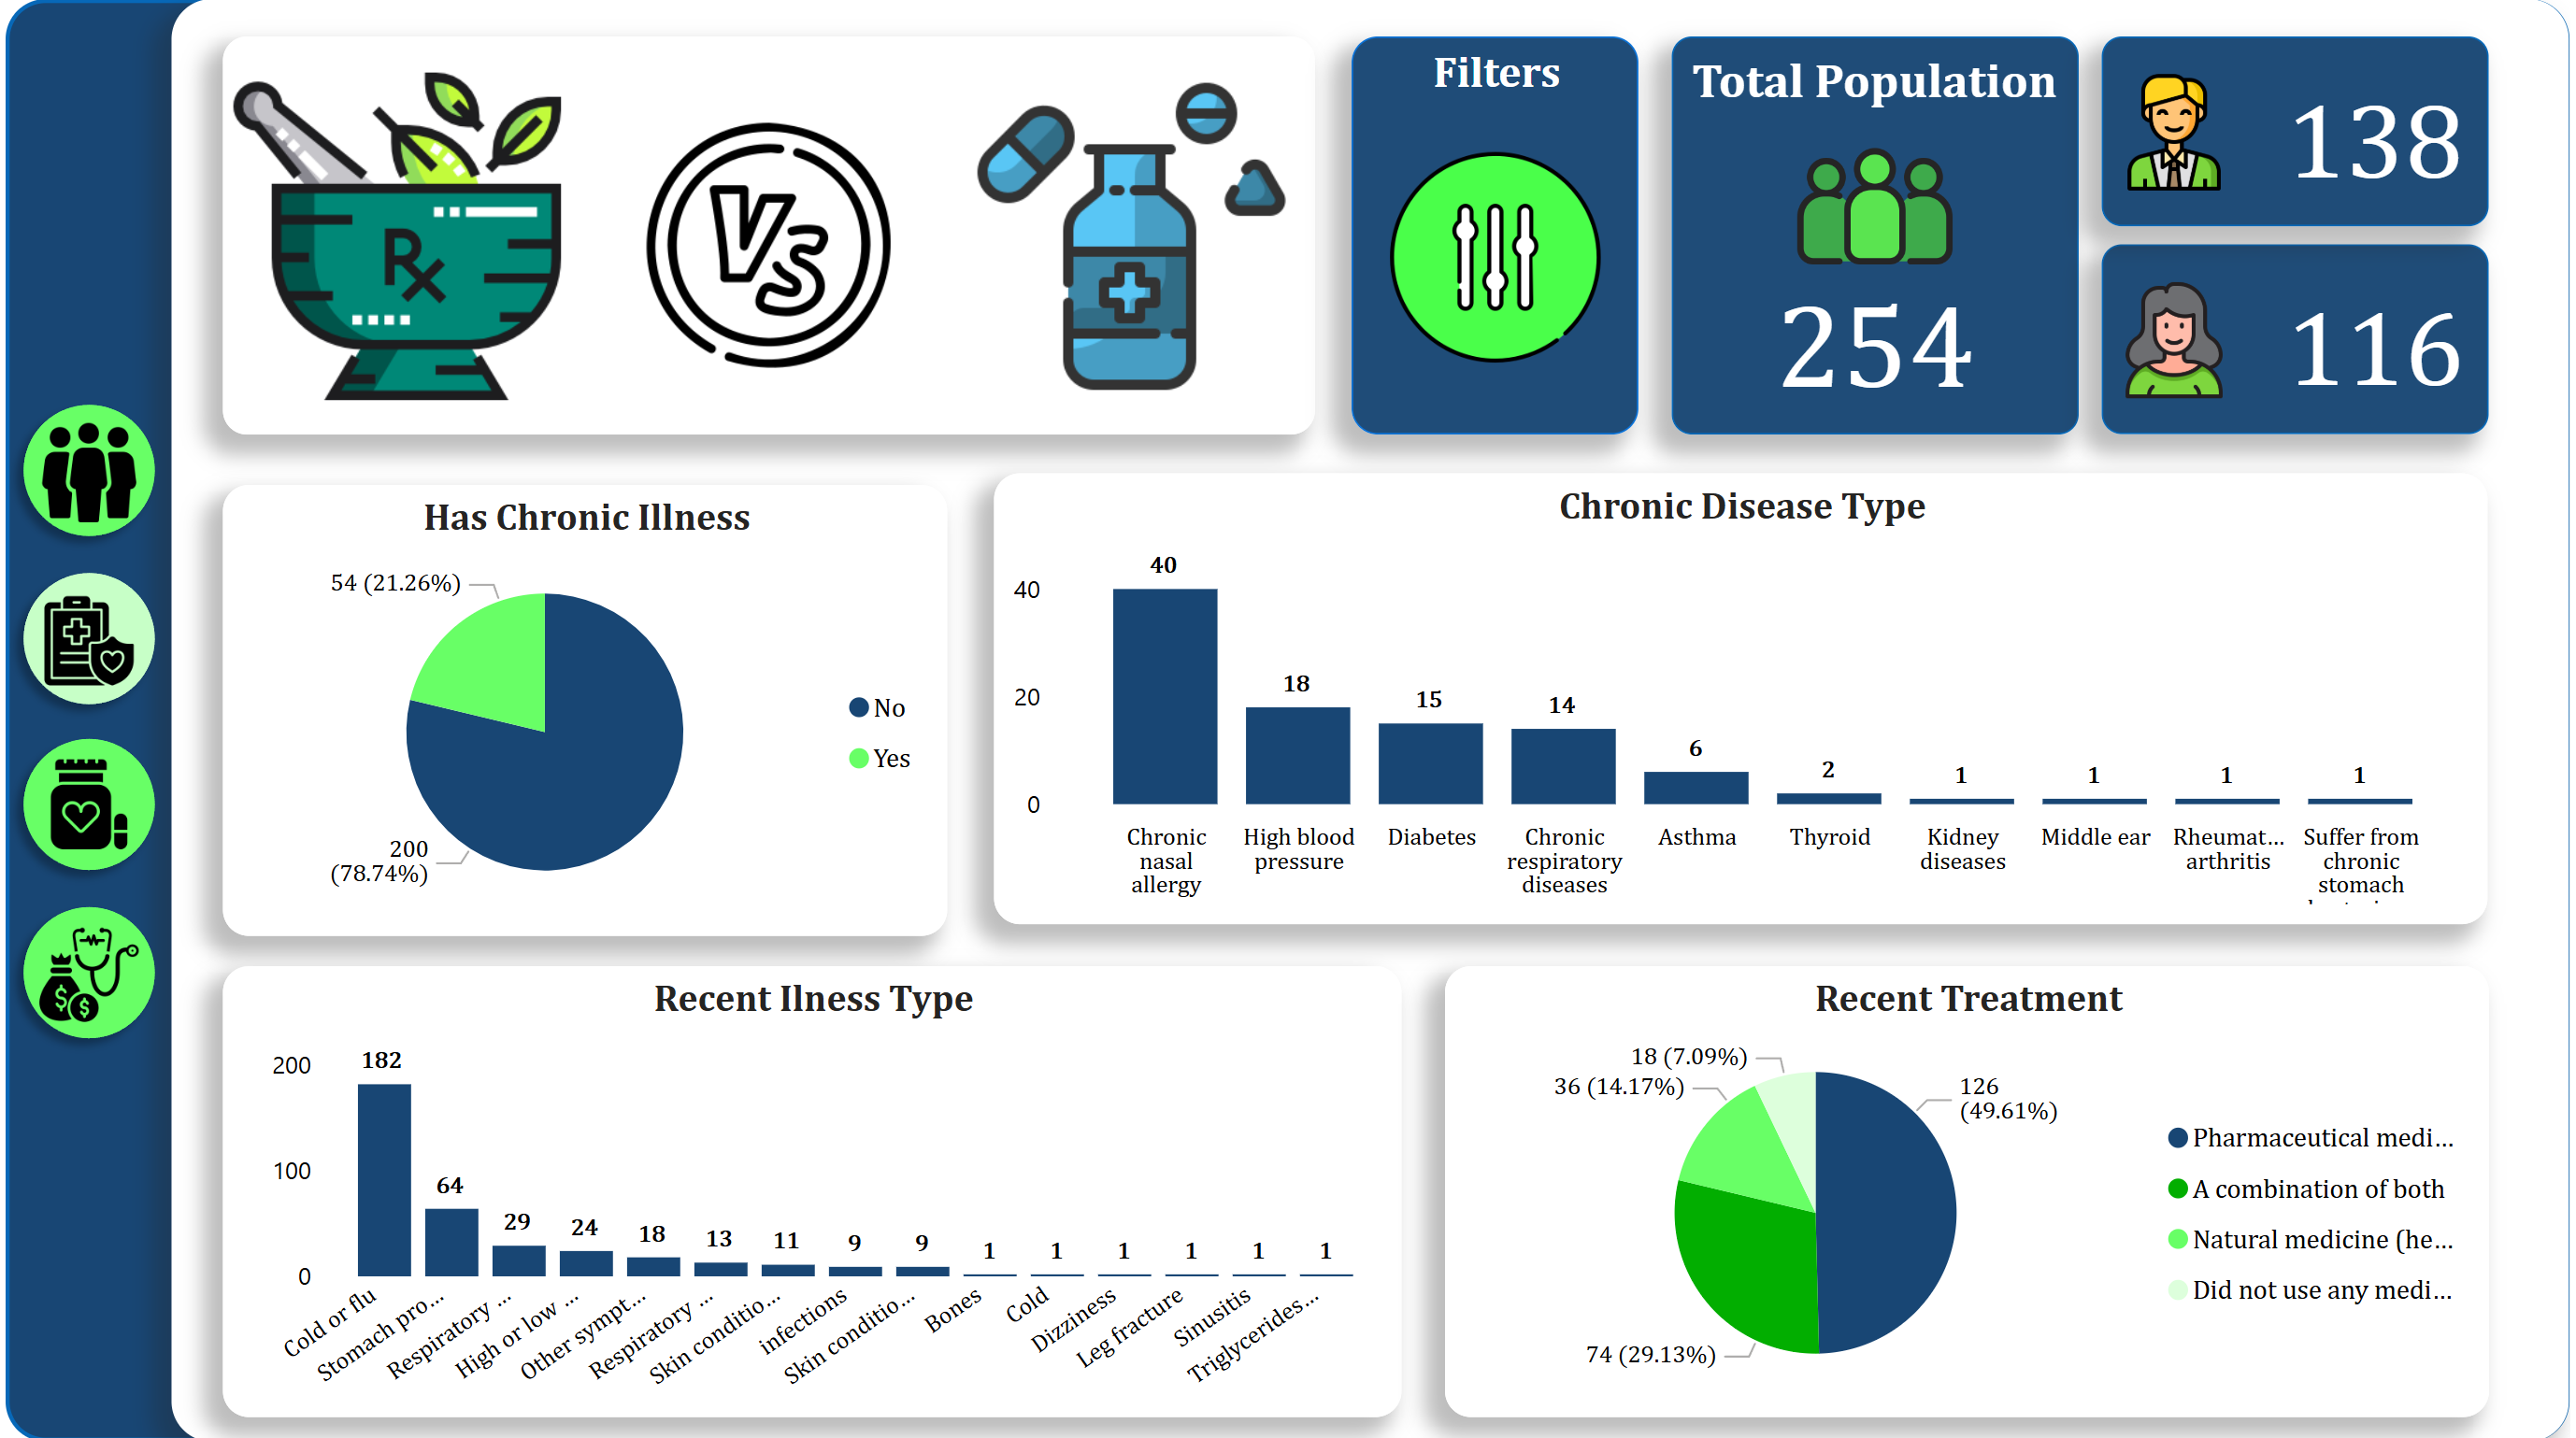

The dashboard page shown, as its layout file describes it:
{"tool":"powerbi","page":{"name":"Health and Medication Usage","canvas":[1280,720],"ordinal":1},"visuals":[{"type":"shape","box":[0,0,1280,720.3],"z":0},{"type":"shape","box":[108.5,18.1,545.4,199],"z":0,"group":"g5"},{"type":"shape","title":"Filters","box":[672.3,18.1,143.3,199],"z":0,"group":"g10"},{"type":"group","id":"g1","title":"Total population","box":[832,18.1,203.1,199],"z":0,"group":"g8"},{"type":"shape","box":[832,18.1,203.1,199],"z":0,"group":"g1"},{"type":"shape","box":[1046.3,18.1,193.4,94.6],"z":0,"group":"g6"},{"type":"shape","box":[1046.3,122.4,193.4,94.6],"z":0,"group":"g3"},{"type":"group","id":"g2","title":"Population_Overview","box":[0,193.4,83.5,83.5],"z":0,"group":"g11"},{"type":"shape","box":[0,193.4,83.5,83.5],"z":0,"group":"g2"},{"type":"shape","box":[0,276.9,83.5,83.5],"z":0,"group":"g4"},{"type":"shape","box":[0,360.4,83.5,83.5],"z":0,"group":"g7"},{"type":"shape","box":[0,443.8,83.5,83.5],"z":0,"group":"g9"},{"type":"shape","box":[83.3,0,1196.7,720.3],"z":1000},{"type":"card","fields":{"Values":["Dax_Measures.Total_Male"]},"box":[1125.6,29.2,114.1,72.3],"z":1000,"group":"g6"},{"type":"image","box":[467.5,30.6,186.4,173.9],"z":1000,"group":"g5"},{"type":"image","box":[671.7,70.4,143.3,115.5],"z":1000,"group":"g10"},{"type":"group","id":"g3","title":"Total_females","box":[1046.3,122.4,193.4,94.6],"z":1000,"group":"g8"},{"type":"card","fields":{"Values":["Dax_Measures.Total_Population"]},"box":[859.9,128.6,147.3,76.7],"z":1000,"group":"g1"},{"type":"image","box":[1046.3,133.5,72.3,72.3],"z":1000,"group":"g3"},{"type":"image","box":[11.1,205.9,59.8,59.8],"z":1000,"group":"g2"},{"type":"group","id":"g4","title":"Health","box":[0,276.9,83.5,83.5],"z":1000,"group":"g11"},{"type":"image","box":[11.1,289.4,59.8,59.8],"z":1000,"group":"g4"},{"type":"image","box":[11.1,371.5,59.8,59.8],"z":1000,"group":"g7"},{"type":"image","box":[11.1,456.3,59.8,59.8],"z":1000,"group":"g9"},{"type":"group","id":"g5","title":"natural vs. pharm","box":[108.5,18.1,545.4,199],"z":2000},{"type":"group","id":"g6","title":"Total_males","box":[1046.3,18.1,193.4,94.6],"z":2000,"group":"g8"},{"type":"image","box":[1046.3,29.2,72.3,72.3],"z":2000,"group":"g6"},{"type":"image","box":[108.5,30.6,173.9,173.9],"z":2000,"group":"g5"},{"type":"image","box":[878.5,58.7,109.9,87.7],"z":2000,"group":"g1"},{"type":"card","fields":{"Values":["Dax_Measures.Total_Females"]},"box":[1125.6,133.5,114.1,72.3],"z":2000,"group":"g3"},{"type":"group","id":"g7","title":"Medication_Usage","box":[0,360.4,83.5,83.5],"z":2000,"group":"g11"},{"type":"group","id":"g8","title":"Population","box":[832,18.1,407.7,199],"z":3000},{"type":"image","box":[296.3,47.3,169.7,150.3],"z":3000,"group":"g5"},{"type":"group","id":"g9","title":"Advice_Cost","box":[0,443.8,83.5,83.5],"z":3000,"group":"g11"},{"type":"group","id":"g10","title":"Filter","box":[671.7,18.1,143.3,199],"z":4000},{"type":"group","id":"g11","title":"Buttons","box":[0,193.4,83.5,333.9],"z":5000},{"type":"clusteredColumnChart","title":"Chronic Disease Type","fields":{"Category":["Chronic_Disease_Type.Chronic_Disease_Type"],"Y":["CountNonNull(Chronic_Disease_Type.Chronic_Disease_Type)"]},"box":[493.9,236.5,745.7,225.4],"z":7000},{"type":"pieChart","title":"Has Chronic Illness","fields":{"Category":["English_csv.Chronic_Illness"],"Y":["CountNonNull(English_csv.Chronic_Illness)"]},"box":[108.5,242.1,361.7,225.4],"z":8000},{"type":"clusteredColumnChart","title":"Recent Ilness Type","fields":{"Category":["Recent_Illness_Type.Recent_Illness_Type"],"Y":["CountNonNull(Recent_Illness_Type.Recent_Illness_Type)"]},"box":[108.2,482.7,588.4,225.2],"z":9000},{"type":"pieChart","title":"Recent Treatment","fields":{"Category":["English_csv.Recent_Treatment"],"Y":["CountNonNull(English_csv.Recent_Treatment)"]},"box":[719,482.7,521.2,225.2],"z":10000}]}

Visuals, with their boxes in screenshot pixels (x1, y1, x2, y2), scaled from the page's 1280x720 canvas onto the 2576x1438 screenshot:
shape: 0:0:2575:1437
shape: 219:36:1316:434
"Filters" shape: 1353:36:1641:434
"Total population" group: 1674:36:2083:434
shape: 1674:36:2083:434
shape: 2106:36:2495:225
shape: 2106:245:2495:434
"Population_Overview" group: 0:386:168:553
shape: 0:386:168:553
shape: 0:553:168:719
shape: 0:719:168:887
shape: 0:887:168:1053
shape: 167:0:2575:1437
card - Dax_Measures.Total_Male: 2266:58:2495:203
image: 941:61:1316:408
image: 1352:140:1640:371
"Total_females" group: 2106:245:2495:434
card - Dax_Measures.Total_Population: 1730:257:2027:410
image: 2106:266:2251:411
image: 22:411:143:531
"Health" group: 0:553:168:719
image: 22:578:143:697
image: 22:742:143:861
image: 22:911:143:1031
"natural vs. pharm" group: 219:36:1316:434
"Total_males" group: 2106:36:2495:225
image: 2106:58:2251:203
image: 219:61:568:408
image: 1768:117:1989:292
card - Dax_Measures.Total_Females: 2266:266:2495:411
"Medication_Usage" group: 0:719:168:887
"Population" group: 1674:36:2495:434
image: 596:94:937:394
"Advice_Cost" group: 0:887:168:1053
"Filter" group: 1352:36:1640:434
"Buttons" group: 0:386:168:1053
"Chronic Disease Type" clusteredColumnChart: 994:473:2495:922
"Has Chronic Illness" pieChart: 219:483:946:933
"Recent Ilness Type" clusteredColumnChart: 218:964:1402:1414
"Recent Treatment" pieChart: 1447:964:2496:1414
